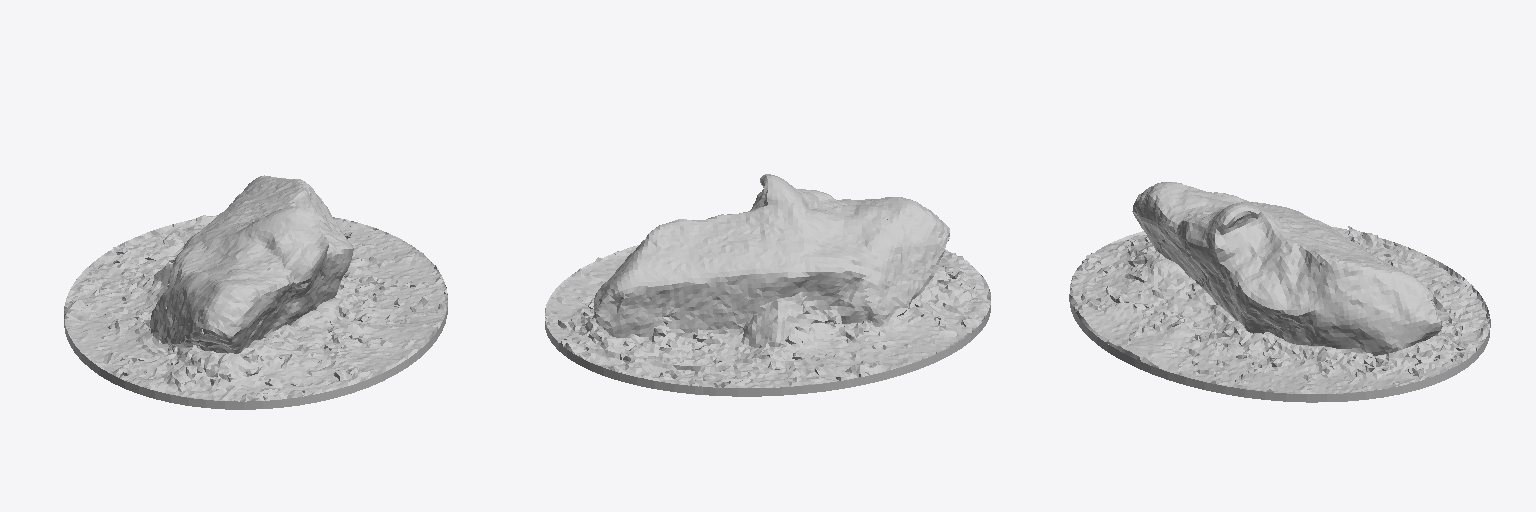
The model's file is mossy_rock.obj.
The picture shows the model from 3 angles: view 1: azimuth 30°, elevation 25°; view 2: azimuth 150°, elevation 25°; view 3: azimuth 270°, elevation 25°; orthographic projection.
Visible parts, largest first — view 1: mossy_rock_lowpoly; view 2: mossy_rock_lowpoly; view 3: mossy_rock_lowpoly.
Part boxes in pixels (x1,y1,x2,y2): mossy_rock_lowpoly: (64, 175, 447, 409); mossy_rock_lowpoly: (545, 174, 990, 396); mossy_rock_lowpoly: (1069, 182, 1490, 402).
Bounding box in the file's own units: 3.77 × 1.18 × 3.82.